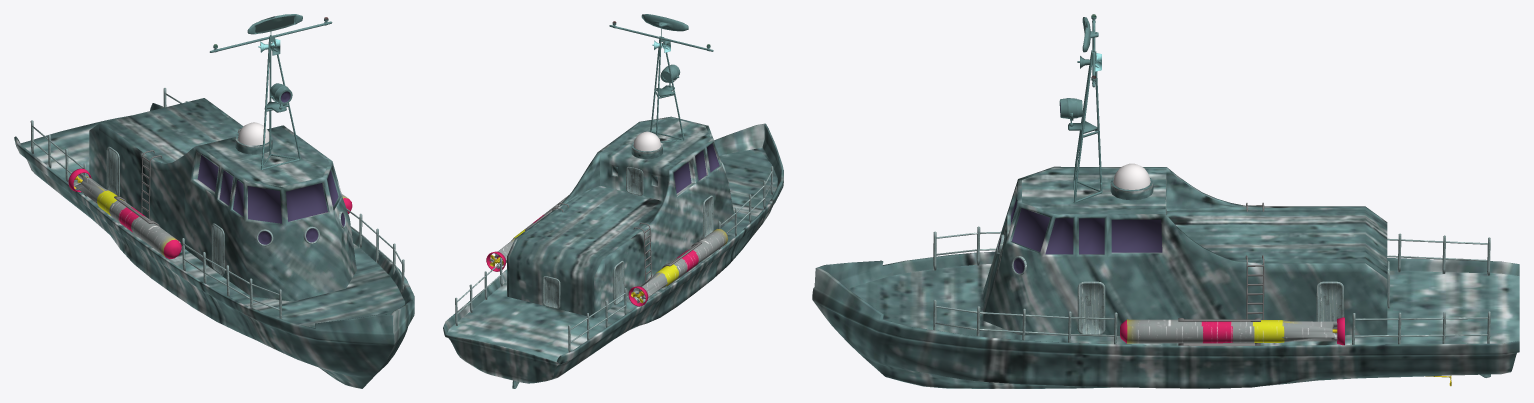
The model's file is PTBoat.obj.
3 renders of one model, left to right at view 1: azimuth 30°, elevation 25°; view 2: azimuth 150°, elevation 25°; view 3: azimuth 270°, elevation 25°, orthographic. The views are drawn at different scales.
Parts seen in each view (by area): view 1: superstructure, hull, torpedo_body, mast, dome, radar, l_cabin_door, rear_r_door, t_rail, b_rail, nav_light_bar, r_ladder (+1 smaller); view 2: superstructure, hull, torpedo_body, mast, dome, rear_door, radar, wheelhouse_door, rear_r_door, l_cabin_door, torpedo_ring, t_rail (+1 smaller); view 3: hull, superstructure, torpedo_body, r_cabin_door, dome, mast, rear_l_door, t_rail, b_rail.
Boxes of the visible parts, <box> form: superstructure: <box>89,98,356,301</box>; hull: <box>14,103,414,388</box>; torpedo_body: <box>73,173,352,259</box>; mast: <box>261,35,300,169</box>; dome: <box>235,122,272,154</box>; radar: <box>247,14,302,34</box>; l_cabin_door: <box>211,223,224,275</box>; rear_r_door: <box>106,146,119,196</box>; t_rail: <box>32,93,401,295</box>; b_rail: <box>32,141,401,310</box>; nav_light_bar: <box>209,21,332,52</box>; r_ladder: <box>141,150,162,218</box>; superstructure: <box>507,116,734,318</box>; hull: <box>443,123,783,383</box>; torpedo_body: <box>489,195,727,303</box>; mast: <box>650,36,684,142</box>; dome: <box>631,131,662,159</box>; rear_door: <box>542,276,560,308</box>; radar: <box>641,14,688,31</box>; wheelhouse_door: <box>626,167,643,195</box>; rear_r_door: <box>613,261,624,305</box>; l_cabin_door: <box>702,195,713,238</box>; torpedo_ring: <box>486,251,648,306</box>; t_rail: <box>457,171,772,329</box>; hull: <box>812,251,1519,388</box>; superstructure: <box>983,166,1387,335</box>; torpedo_body: <box>1120,319,1337,343</box>; r_cabin_door: <box>1077,281,1105,334</box>; dome: <box>1110,163,1153,200</box>; mast: <box>1073,50,1102,203</box>; rear_l_door: <box>1316,281,1344,321</box>; t_rail: <box>936,231,1488,320</box>; b_rail: <box>935,248,1487,337</box>.
Size of the model in its own units: 67.8 by 109 by 193.
Materials: 69 (61 with a texture image).
